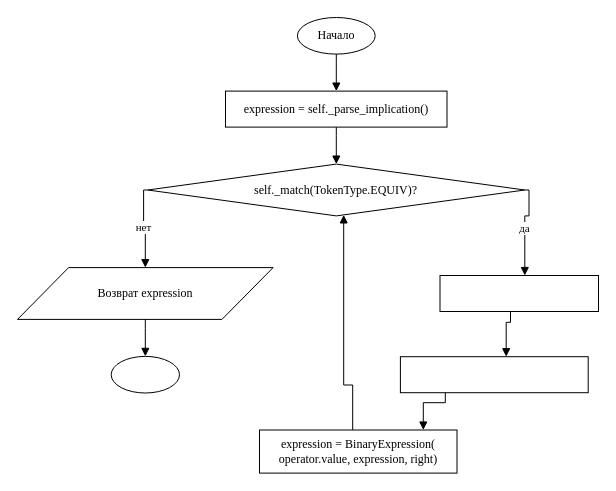
The diagram is 616 pixels wide and 491 high, and some of its shapes have lost their labels. The box of each missing label's shape, as (x1, y1, x2, y2) in pixels:
operator = self._previous(): (439, 274, 598, 312)
right = self._parse_implication(): (399, 356, 588, 393)
Конец: (110, 355, 180, 393)
